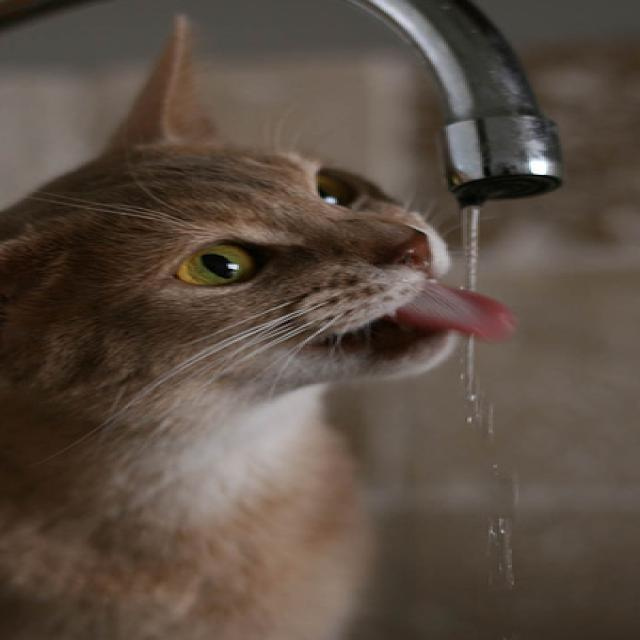Abyssinian: (0, 7, 521, 640)
